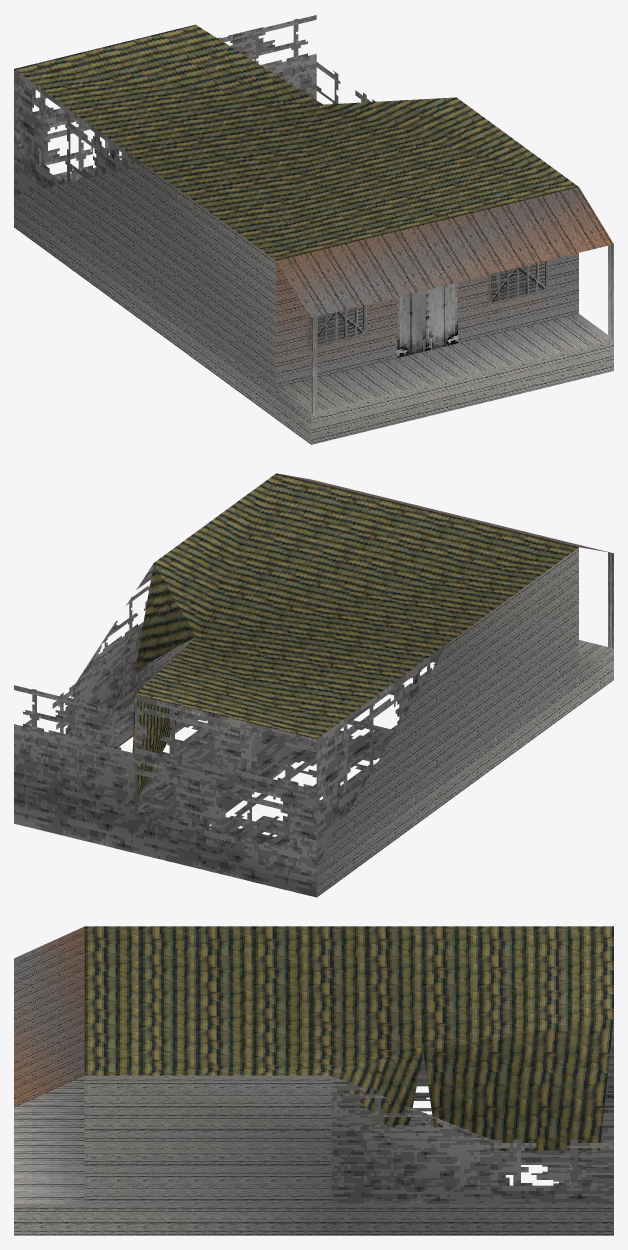
File: uvmd-0169.glb
3 renders of one model, top to bottom at view 1: azimuth 30°, elevation 25°; view 2: azimuth 150°, elevation 25°; view 3: azimuth 270°, elevation 25°, orthographic.
Parts seen in each view (by area): view 1: uvmd-0169; view 2: uvmd-0169; view 3: uvmd-0169.
Boxes of the visible parts, box(x1,y1,x2,y2) form: uvmd-0169: box(14, 15, 613, 444); uvmd-0169: box(14, 473, 613, 897); uvmd-0169: box(14, 926, 613, 1235).
Size of the model in its own units: 100 by 50 by 170.
5 materials, 5 textured.
